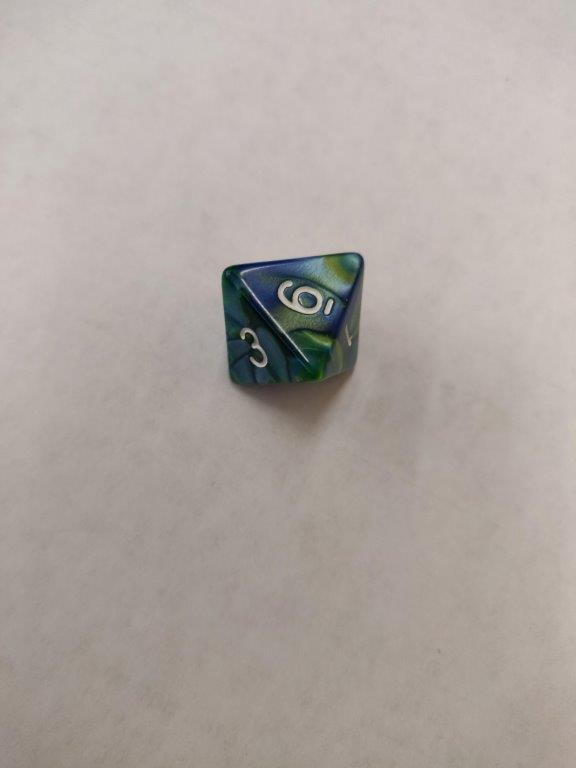d8-6: (223, 250, 361, 387)
